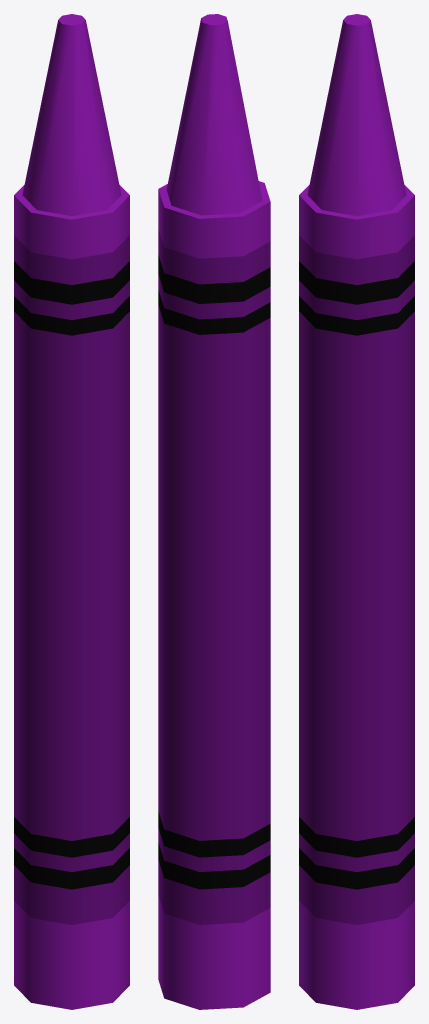
File: CrayonPurple.fbx
3 views of the same model, side by side, from view 1: azimuth 90°, elevation 25°; view 2: azimuth 210°, elevation 25°; view 3: azimuth 270°, elevation 25° (orthographic).
Visible parts, largest first — view 1: pasted__pCylinder1; view 2: pasted__pCylinder1; view 3: pasted__pCylinder1.
Part boxes in pixels (<box>): pasted__pCylinder1: <box>14,14,129,1009</box>; pasted__pCylinder1: <box>158,14,270,1009</box>; pasted__pCylinder1: <box>299,14,414,1009</box>.
Bounding box in the file's own units: 1.37 × 12.55 × 1.37.
